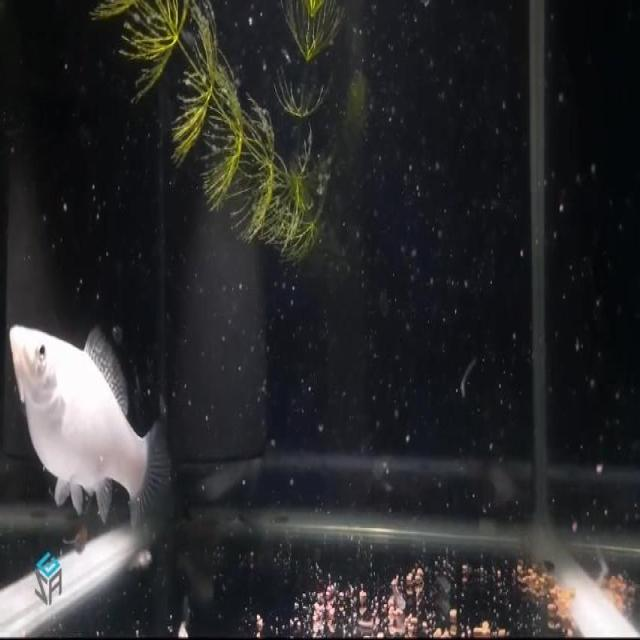PlatyFish: (6, 303, 177, 554)
